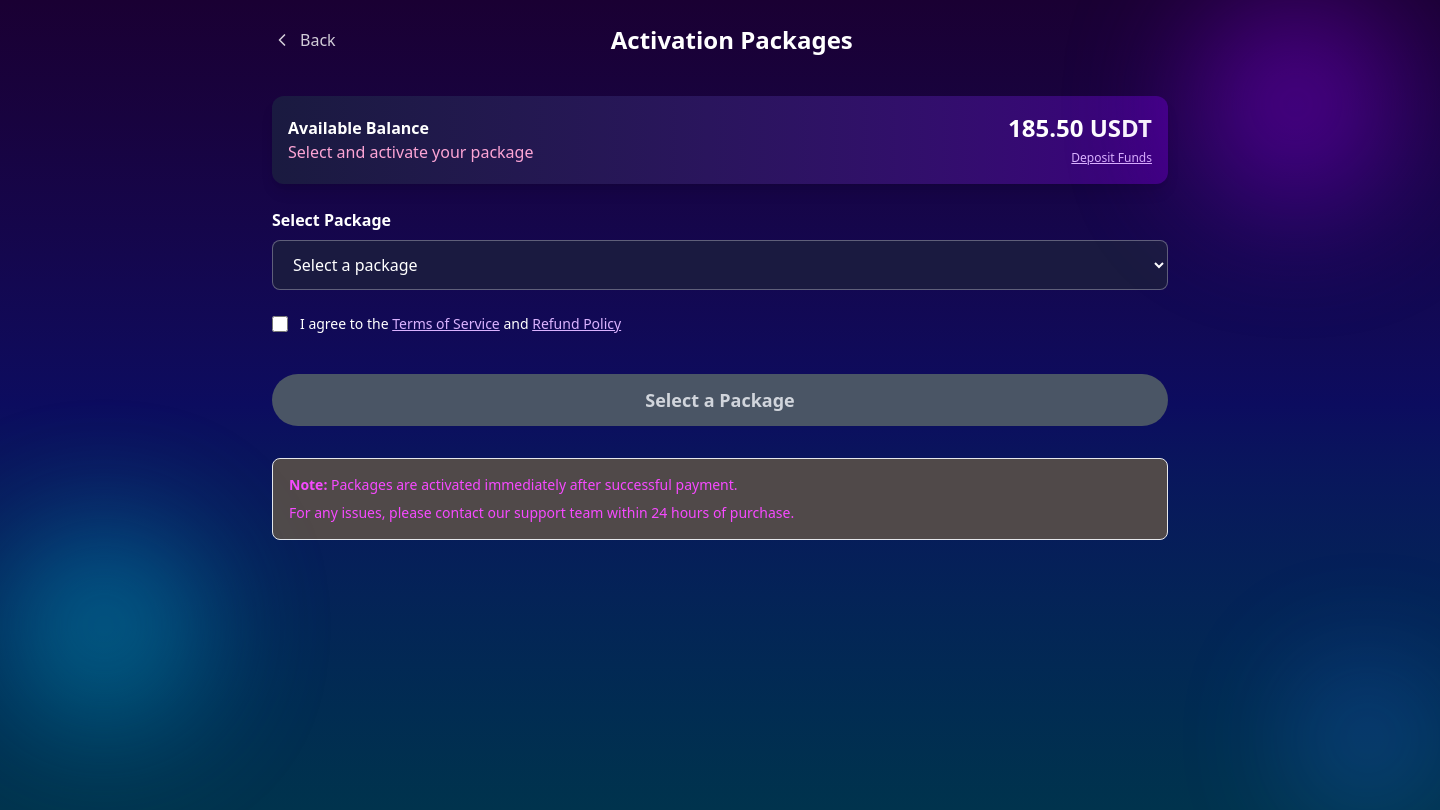
it: ActivationPackage Component › completes purchase when package selected and terms agreed
The width and height of the screenshot is (1440, 810).
Note: Select package
Select "Basic Package - 50 USDT" in the dropdown labelled "Select Package" at (720,265), box [272,240,1168,290]
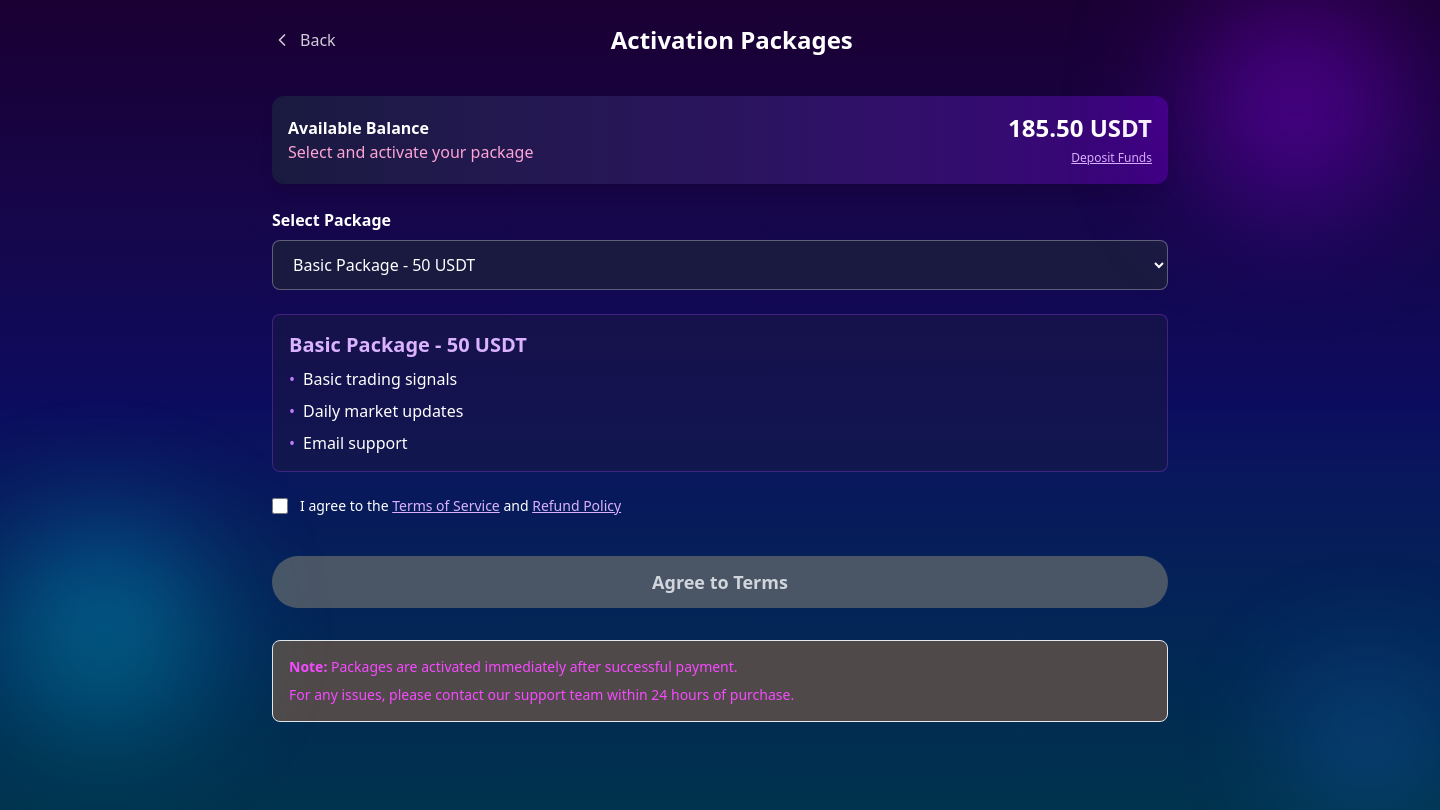
Note: Agree terms
Click the checkbox labelled "I agree to the Terms of Service and Refund Policy" at (280,506), box [272,498,288,514]
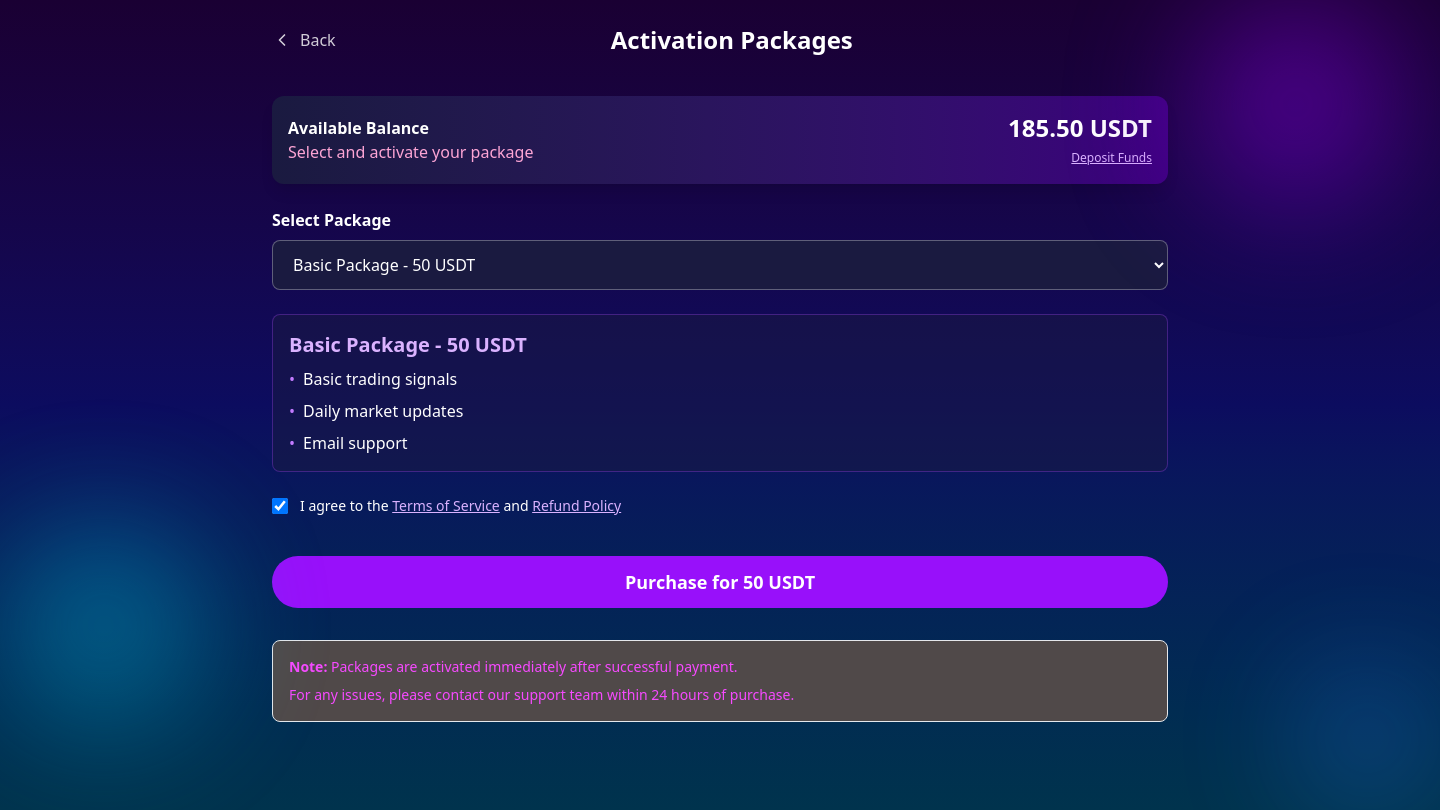
Note: Click purchase
Click the button "Purchase for 50 USDT" at (720,582), box [272,556,1168,608]
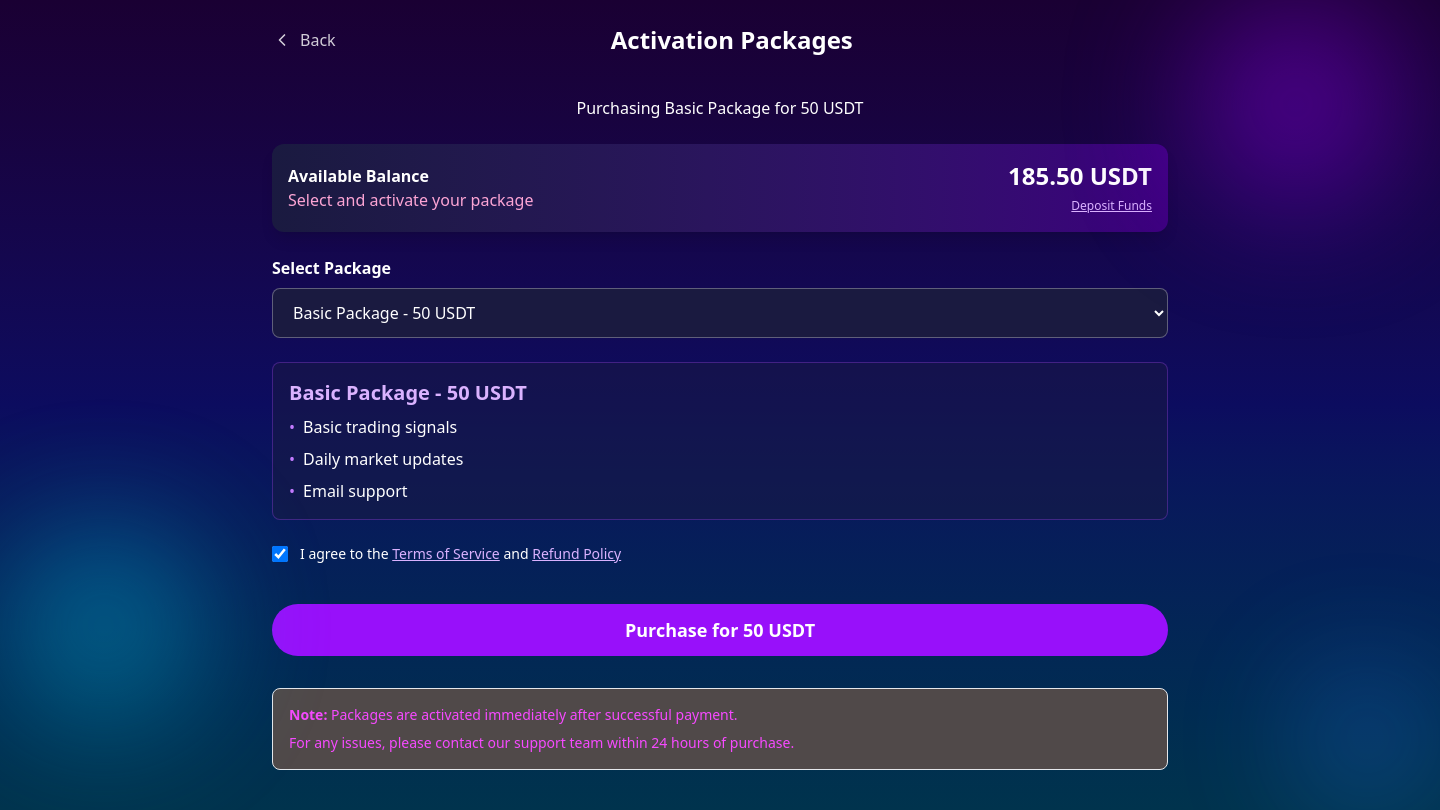
Check: the text with test id "message" reads "Purchasing Basic Package for 50 USDT", box [576,97,864,119]
